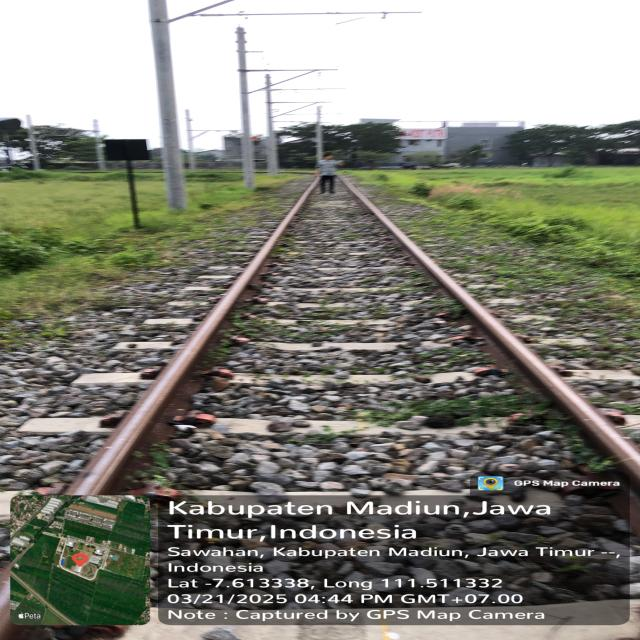rail-detection: (341, 178, 640, 487), (71, 176, 319, 494)
